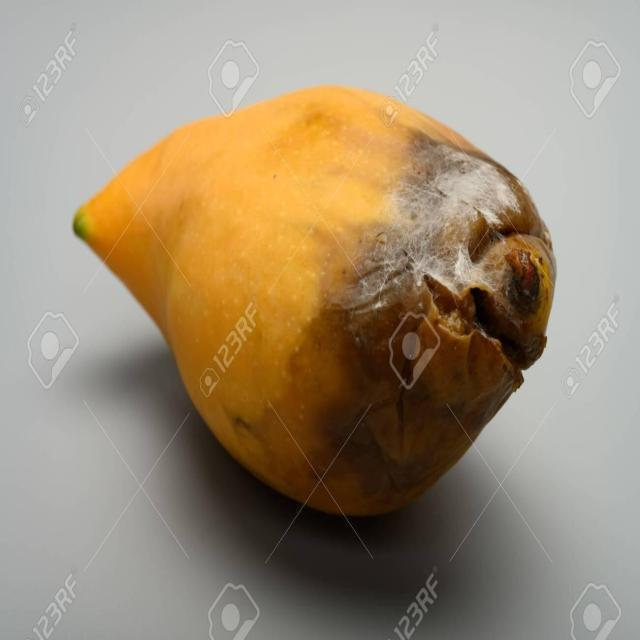Mango: (69, 80, 562, 510)
